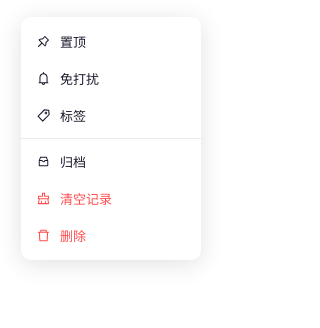
it: ConversationContextMenu › should show tag input on tag click
What coordinates should you click on to do the following:
click the text "标签"
I would click on:
 (62, 116)
Its box is [37, 108, 86, 124].
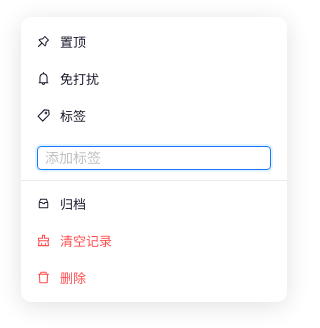
Result: the field with placeholder "添加标签" is shown at [37, 146, 271, 170]
